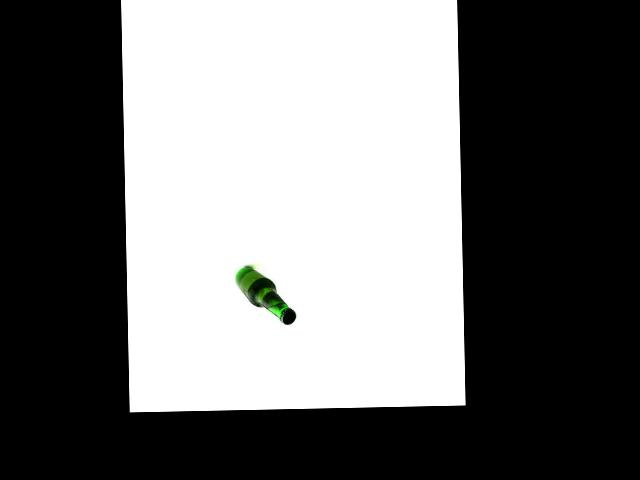beer: (235, 265, 296, 325)
